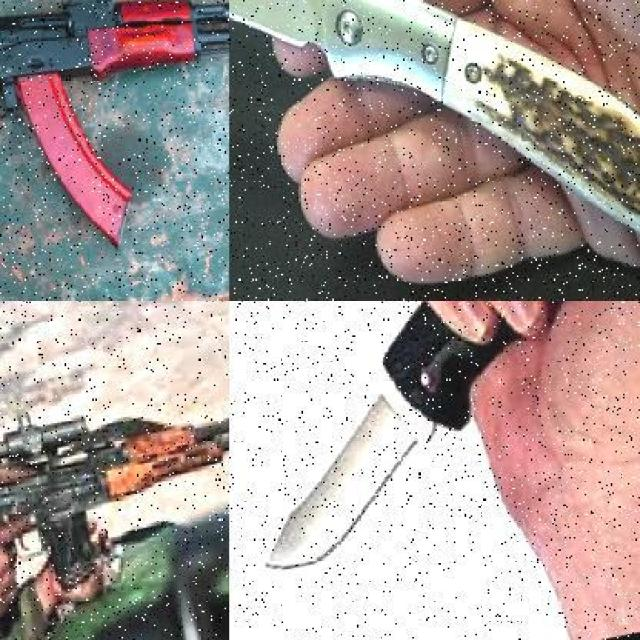weapon: (228, 0, 640, 244), (252, 302, 567, 581), (9, 4, 226, 263)
